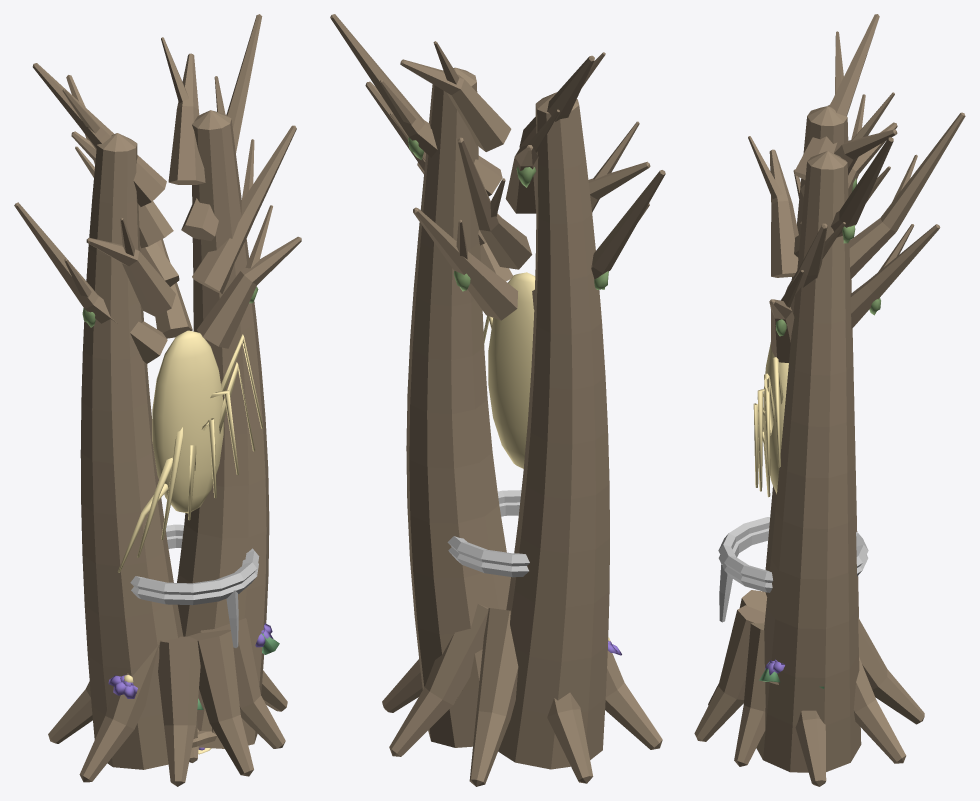
Rendered from CorruptedF35Kit.fbx.
3 views of the same model, side by side, from view 1: azimuth 30°, elevation 25°; view 2: azimuth 150°, elevation 25°; view 3: azimuth 270°, elevation 25° (orthographic). The views are drawn at different scales.
Visible parts, largest first — view 1: MotherGraftTrunk__WOOD, MotherGraftTrunk__GLOW, MotherGraftTrunk__SILK, MotherGraftTrunk__CAP; view 2: MotherGraftTrunk__WOOD, MotherGraftTrunk__GLOW, MotherGraftTrunk__SILK, MotherGraftTrunk__MOSS; view 3: MotherGraftTrunk__WOOD, MotherGraftTrunk__GLOW, MotherGraftTrunk__SILK, MotherGraftTrunk__MOSS.
Boxes of the visible parts, x1,y1,x2,y2 form: MotherGraftTrunk__WOOD: (14,14,301,786); MotherGraftTrunk__GLOW: (118,330,263,682); MotherGraftTrunk__SILK: (130,524,259,647); MotherGraftTrunk__CAP: (108,623,273,698); MotherGraftTrunk__WOOD: (330,14,665,786); MotherGraftTrunk__GLOW: (483,272,610,641); MotherGraftTrunk__SILK: (447,490,529,577); MotherGraftTrunk__MOSS: (408,137,608,291); MotherGraftTrunk__WOOD: (694,14,965,786); MotherGraftTrunk__GLOW: (753,342,788,497); MotherGraftTrunk__SILK: (718,517,868,622); MotherGraftTrunk__MOSS: (775,178,880,336).
Size of the model in its own units: 93.73 by 219 by 80.04.
